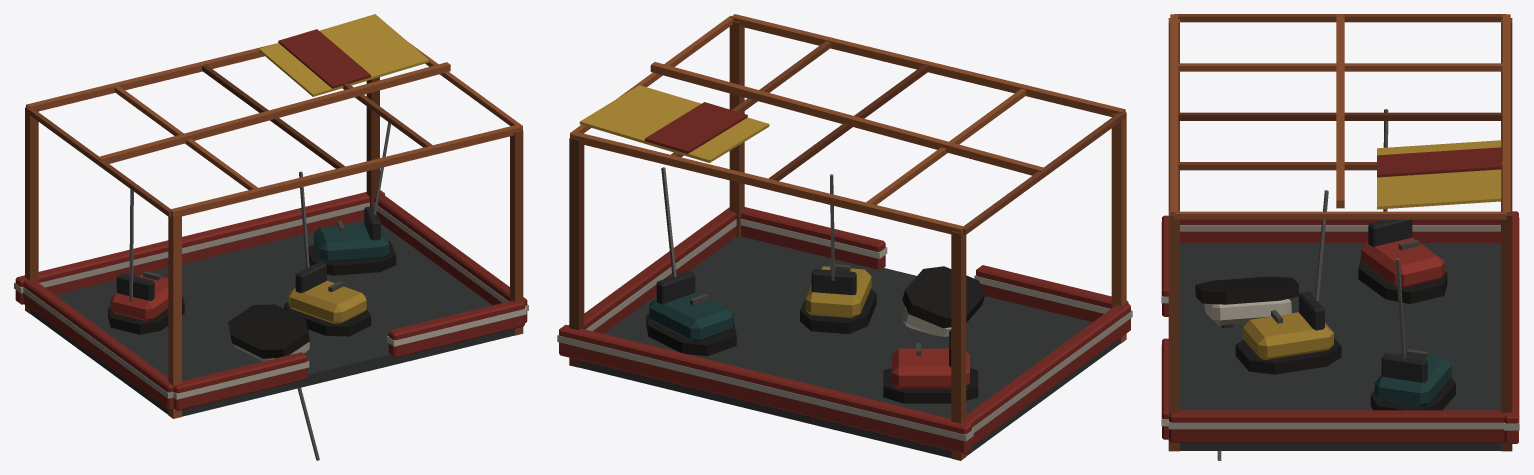
The model's file is parque_bate_bate.glb.
The picture shows the model from 3 angles, left to right: view 1: azimuth 30°, elevation 25°; view 2: azimuth 150°, elevation 25°; view 3: azimuth 270°, elevation 25°; orthographic projection. The views are drawn at different scales.
Visible parts, largest first — view 1: parque_bate_bate.001; view 2: parque_bate_bate.001; view 3: parque_bate_bate.001.
Part boxes in pixels (left/top/right/bottom): parque_bate_bate.001: left=14, top=14, right=528, bottom=460; parque_bate_bate.001: left=557, top=14, right=1132, bottom=460; parque_bate_bate.001: left=1161, top=14, right=1519, bottom=460.
Size of the model in its own units: 4.71 by 3.87 by 3.45.
